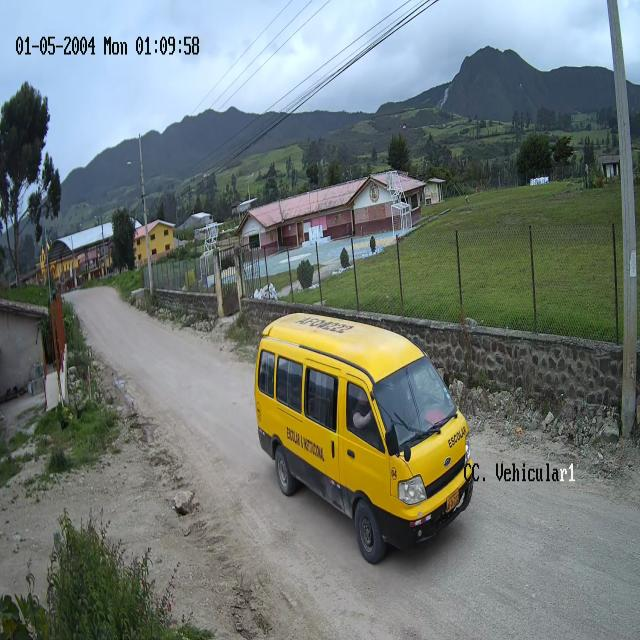BUS: (254, 313, 476, 566)
